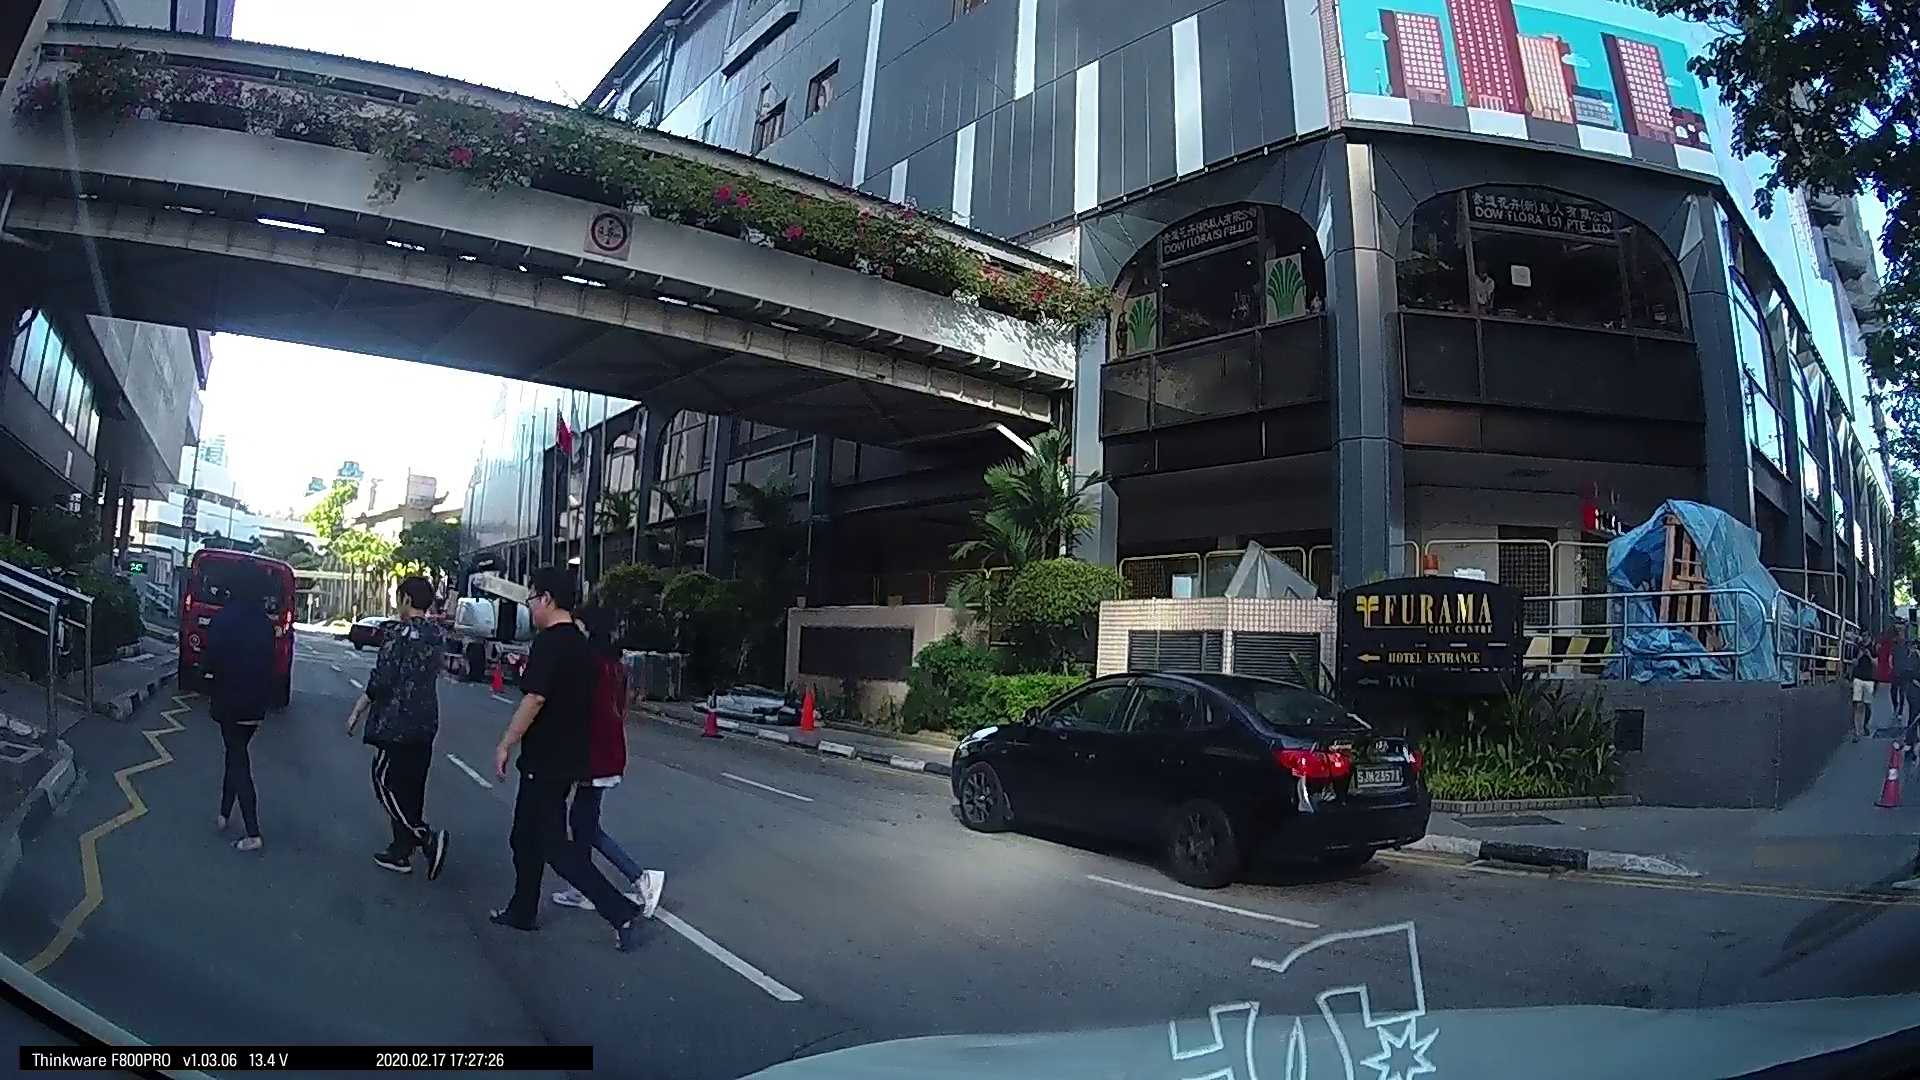Heavy Vehicle: (287, 542, 735, 907), (1451, 578, 1815, 843)
Light Vehicle: (704, 616, 818, 791), (1192, 666, 1305, 750), (918, 655, 981, 705), (998, 649, 1054, 695)
